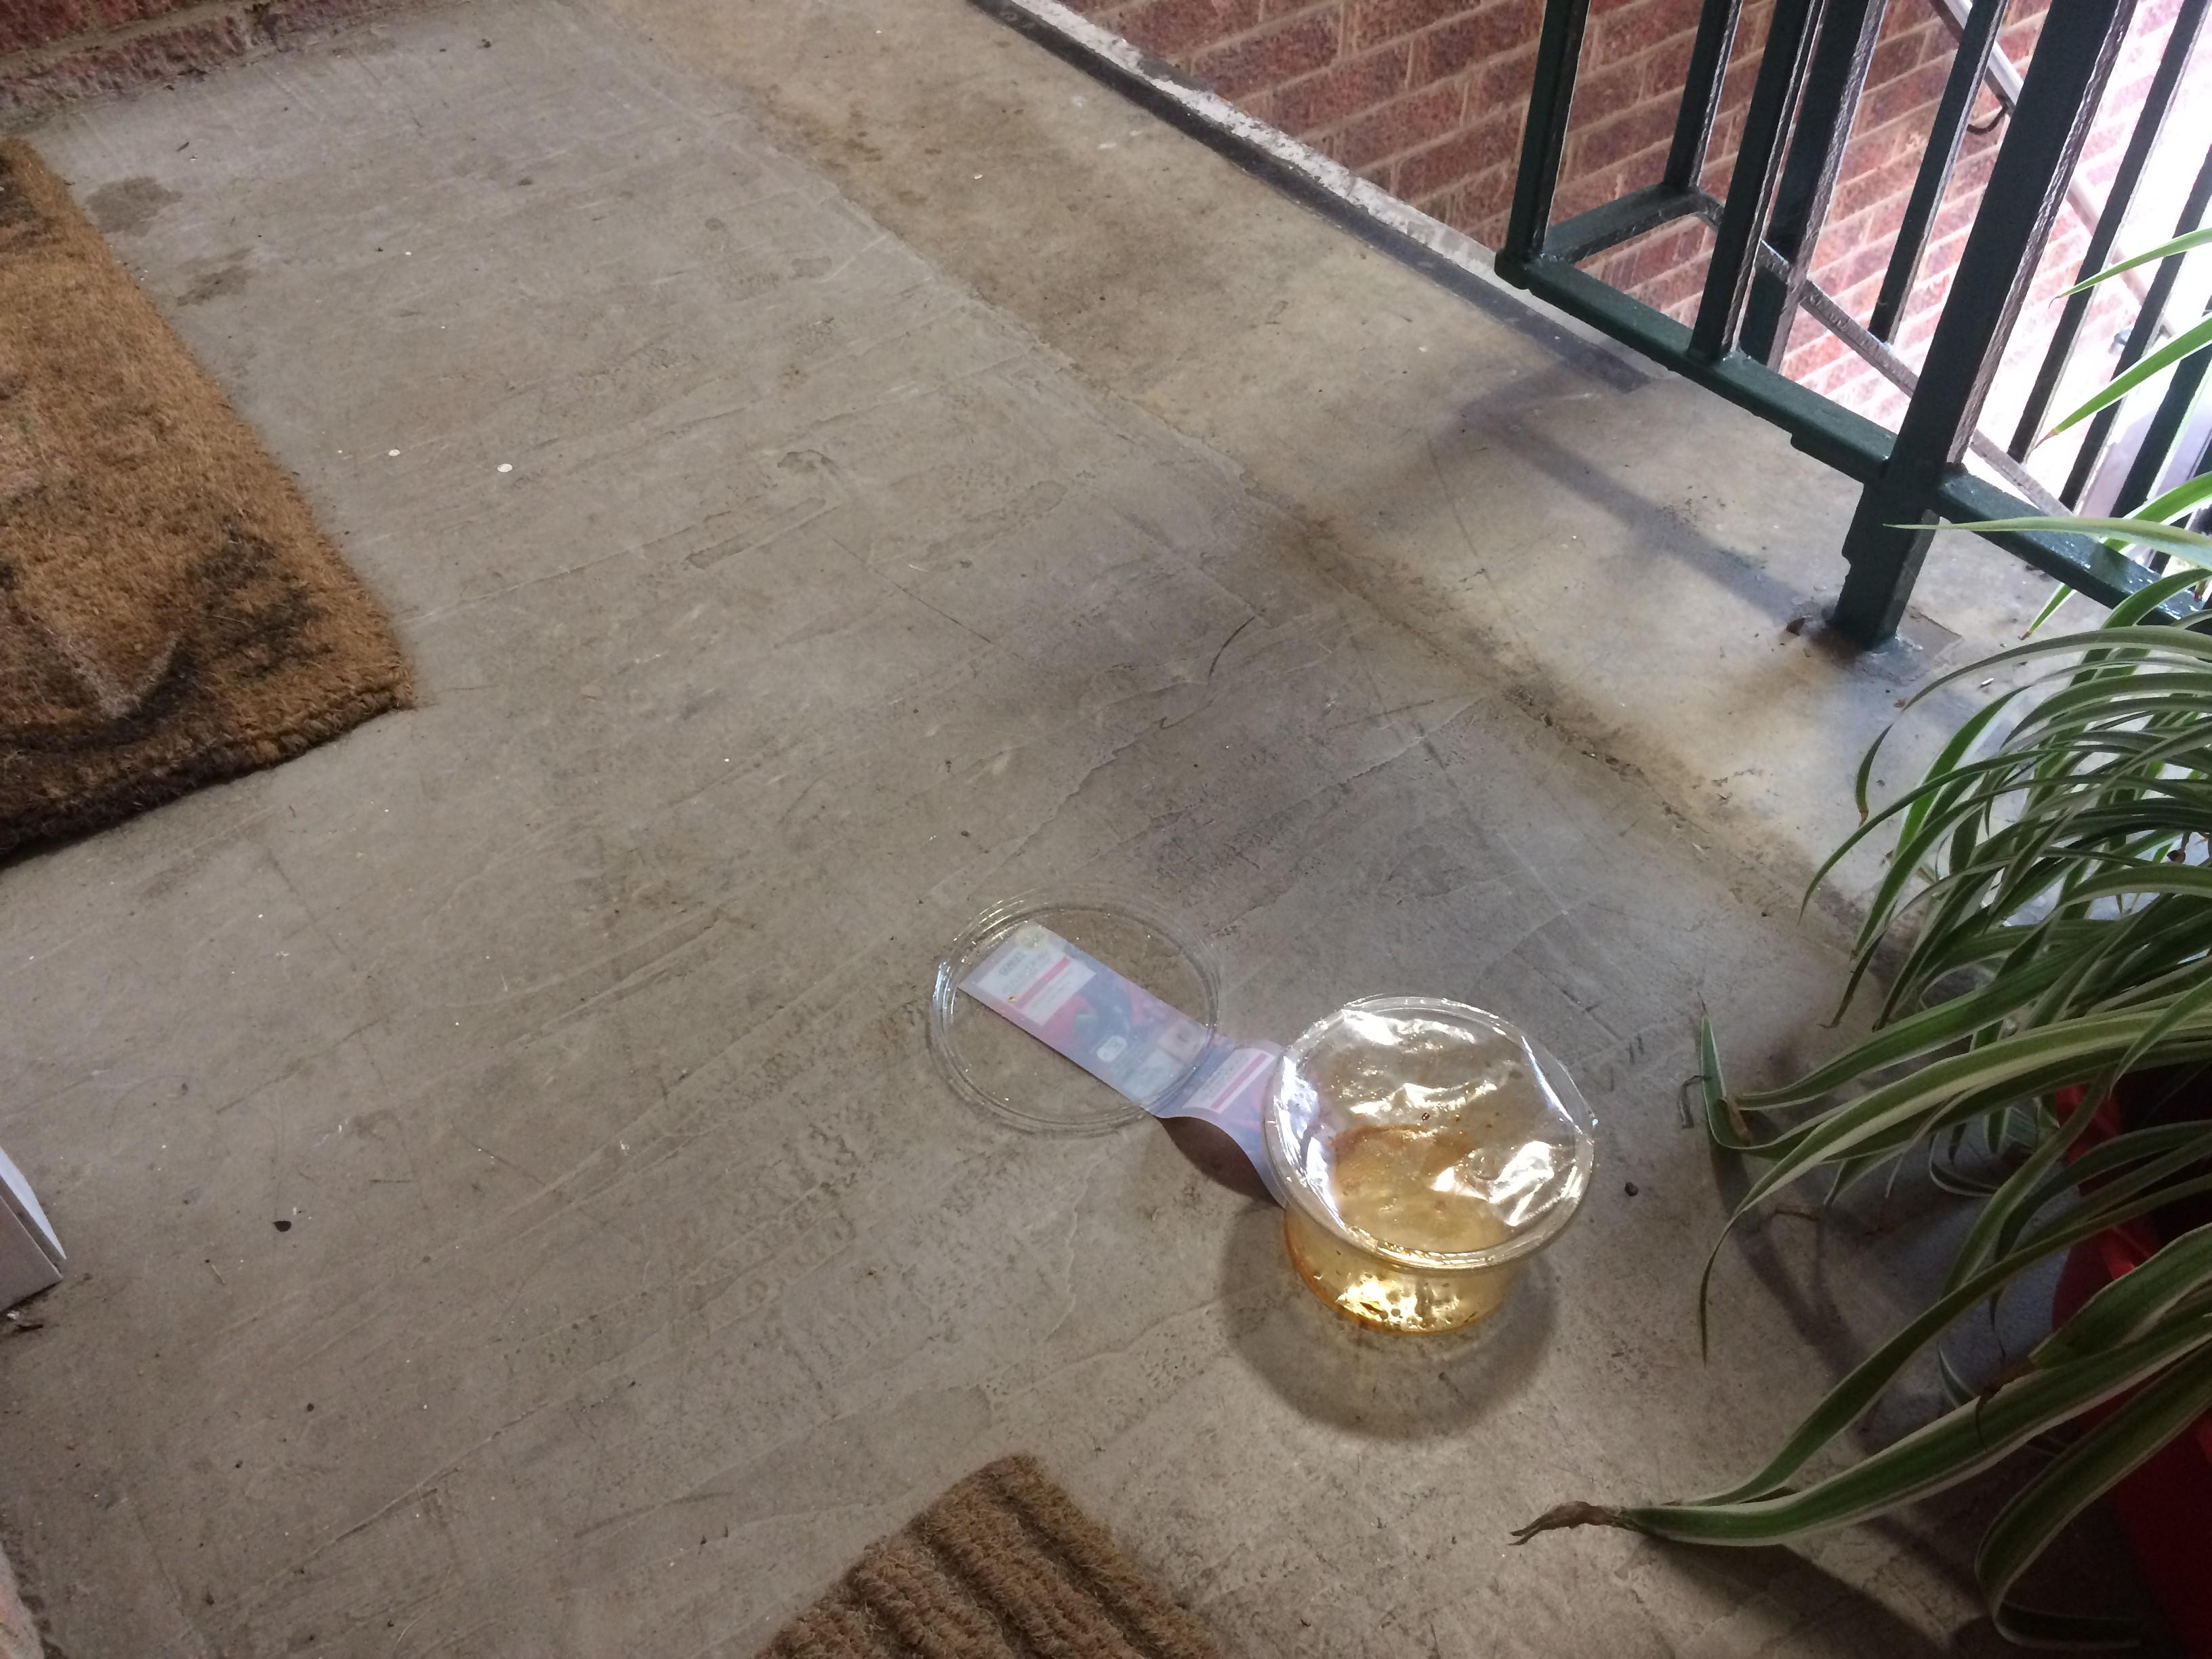Trash: (1261, 988, 1595, 1337)
